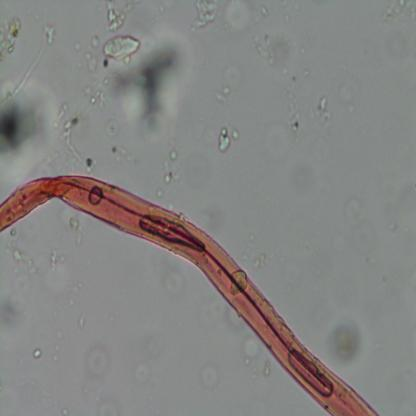Background material: (97, 22, 196, 146), (0, 72, 57, 170), (58, 98, 96, 172), (282, 63, 312, 139), (327, 319, 359, 366), (257, 34, 296, 70), (99, 34, 139, 67), (74, 34, 100, 76), (0, 15, 23, 59), (0, 292, 26, 330), (106, 0, 133, 35), (192, 1, 222, 32), (162, 265, 188, 300), (10, 245, 37, 277), (86, 342, 109, 378), (161, 148, 182, 185), (198, 360, 222, 391), (384, 1, 416, 22), (218, 127, 241, 154), (316, 96, 335, 128), (241, 338, 263, 365), (67, 218, 85, 245), (213, 84, 235, 105), (43, 18, 56, 49), (49, 247, 66, 269), (262, 360, 273, 378), (31, 345, 42, 360), (80, 314, 87, 329)
Cotton: (0, 172, 379, 416)
